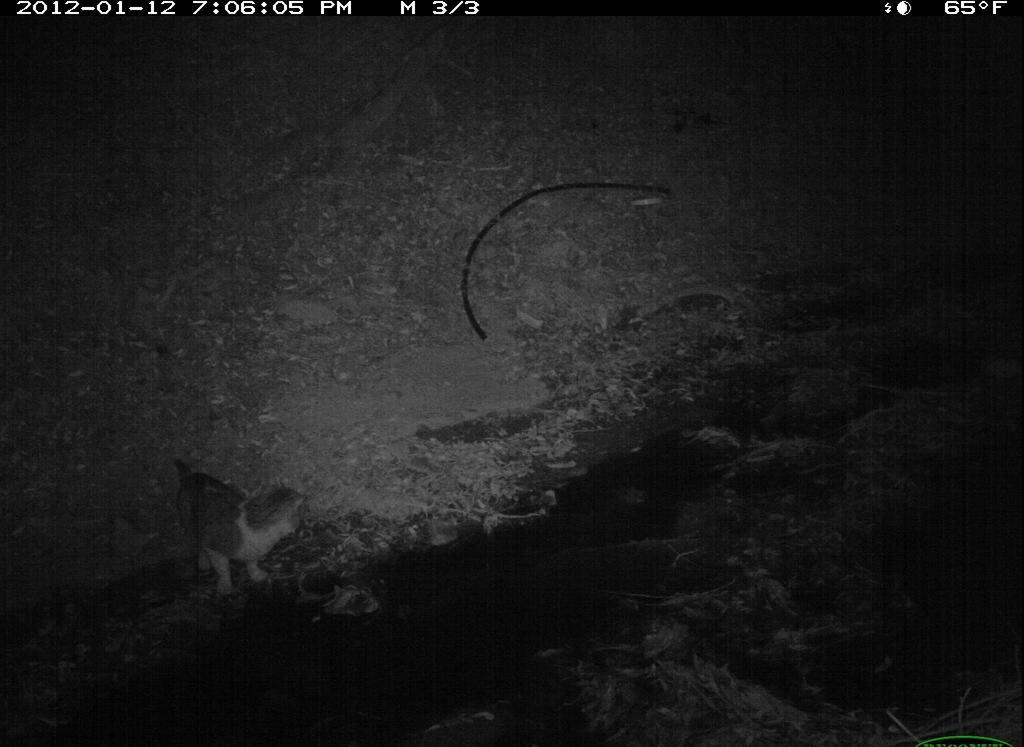cat: (159, 451, 310, 607)
